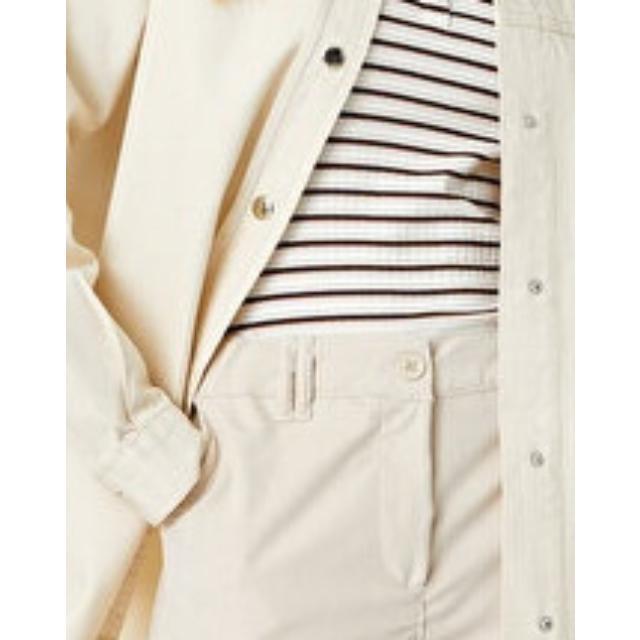denim: (66, 0, 574, 640)
